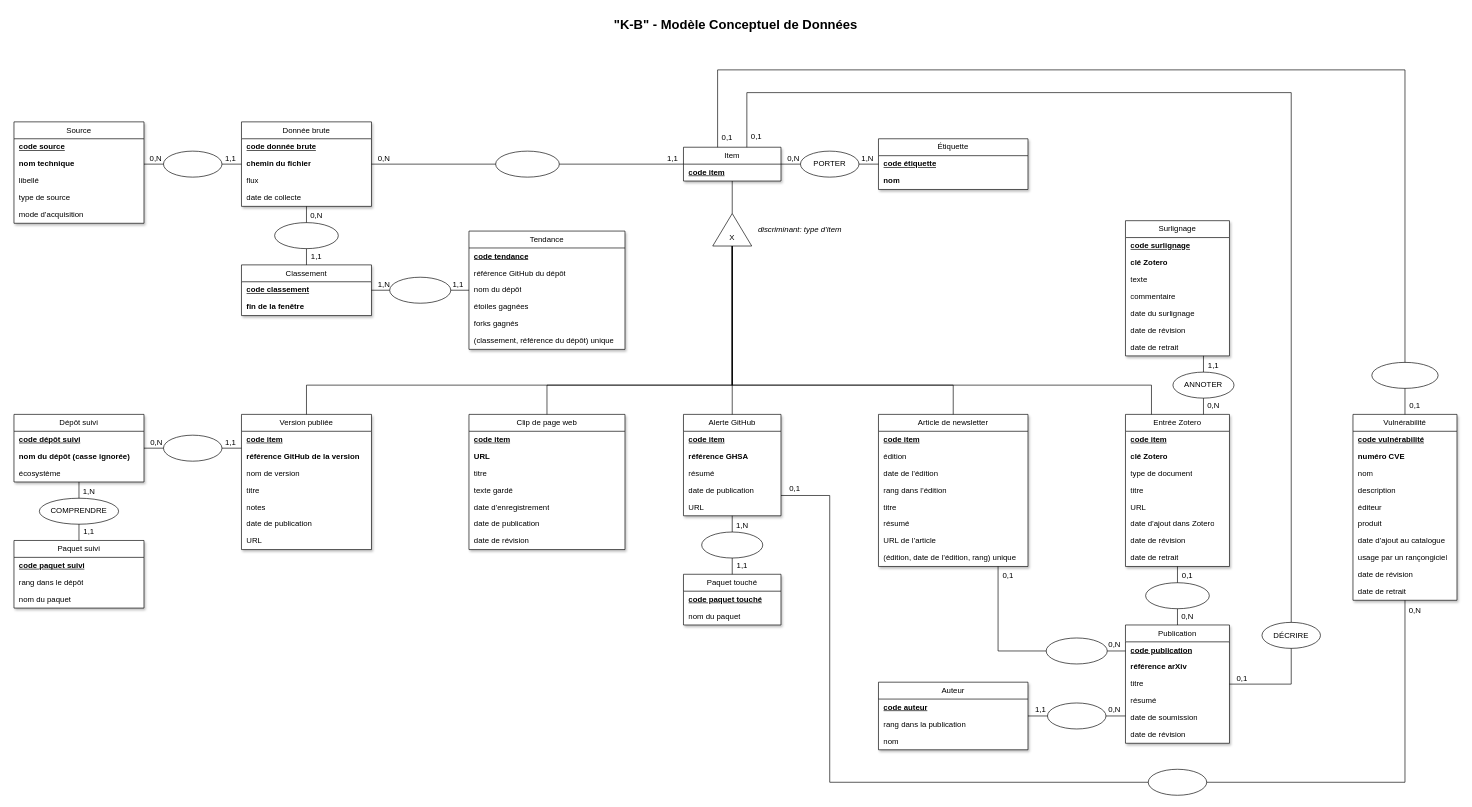
Some shapes in this 1472 by 807 pixel diagram are drawn without their labels. The centre of each missing label's shape, as x and y in pixels:
"CITER" goes at (1177,782).
"COMPTER" goes at (420,290).
"CONTENIR" goes at (527,163).
"DÉSIGNER" goes at (1177,595).
"FOURNIR" goes at (192,163).
"PRODUIRE" goes at (306,235).
"PUBLIER" goes at (192,448).
"RECENSER" goes at (1404,375).
"RÉSUMER" goes at (1076,650).
"TOUCHER" goes at (732,544).
"ÉCRIRE" goes at (1076,715).
